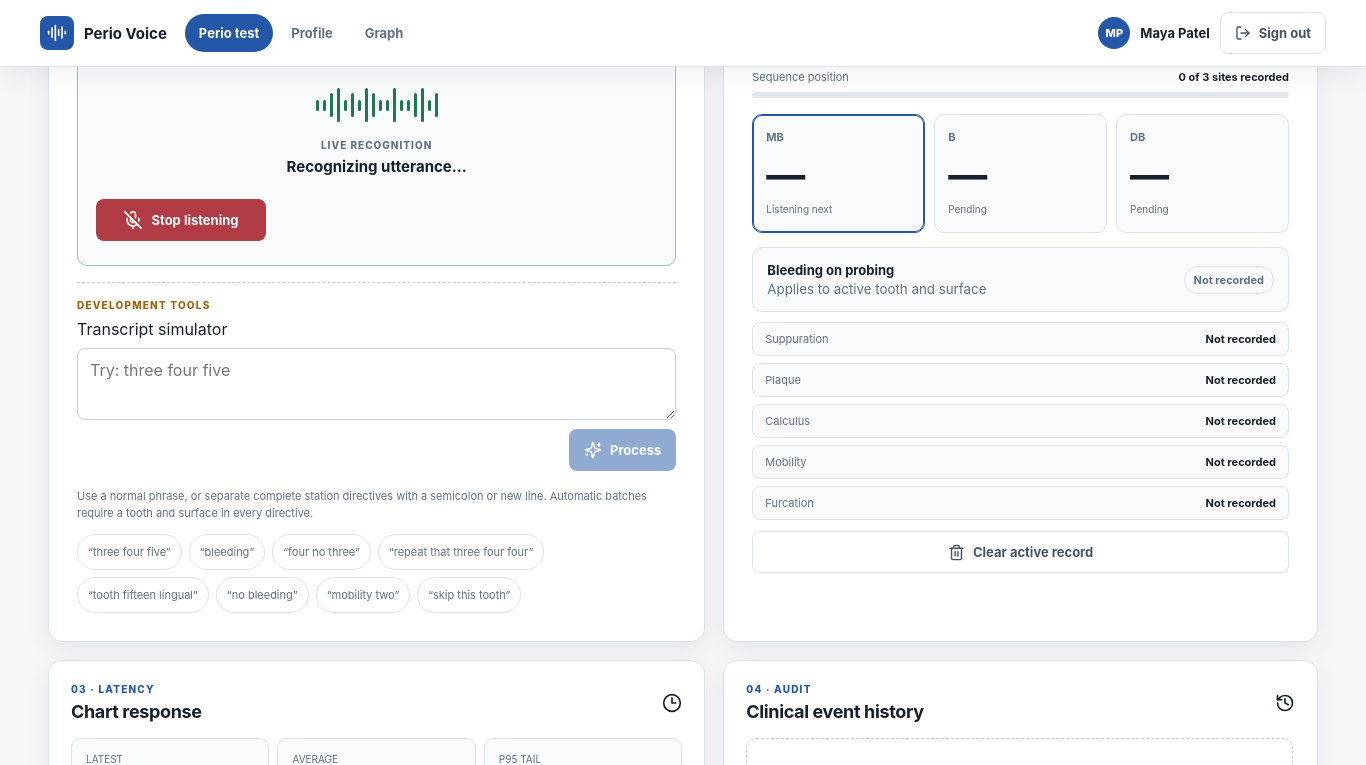
automatic chart UI › announces a rejected batch and preserves the active chart
(page scrolled)
In the text box labelled "Transcript simulator": (377, 384) [77, 348, 676, 420], type "tooth fourteen buccal three four five; two three four"
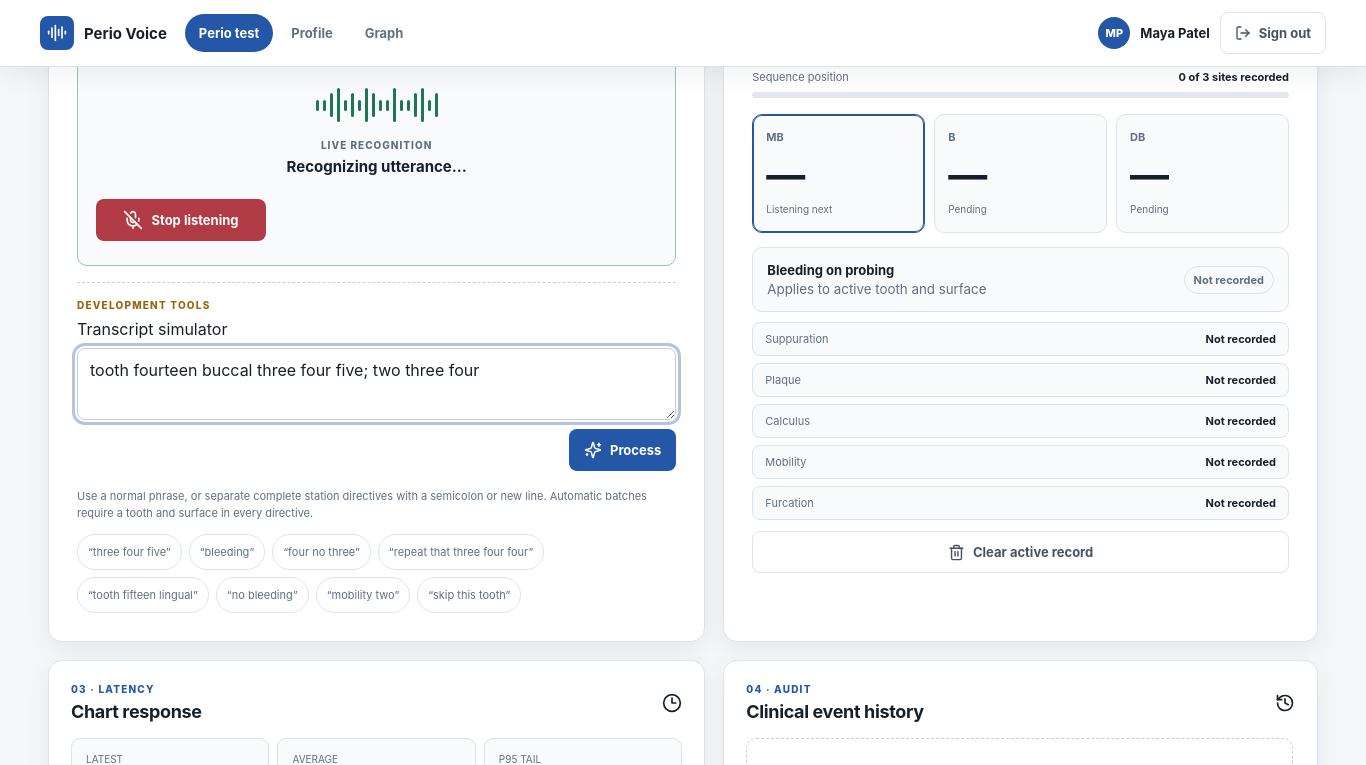
Submit the form labelled "Transcript simulator", box [77, 320, 676, 522]
(page scrolled)
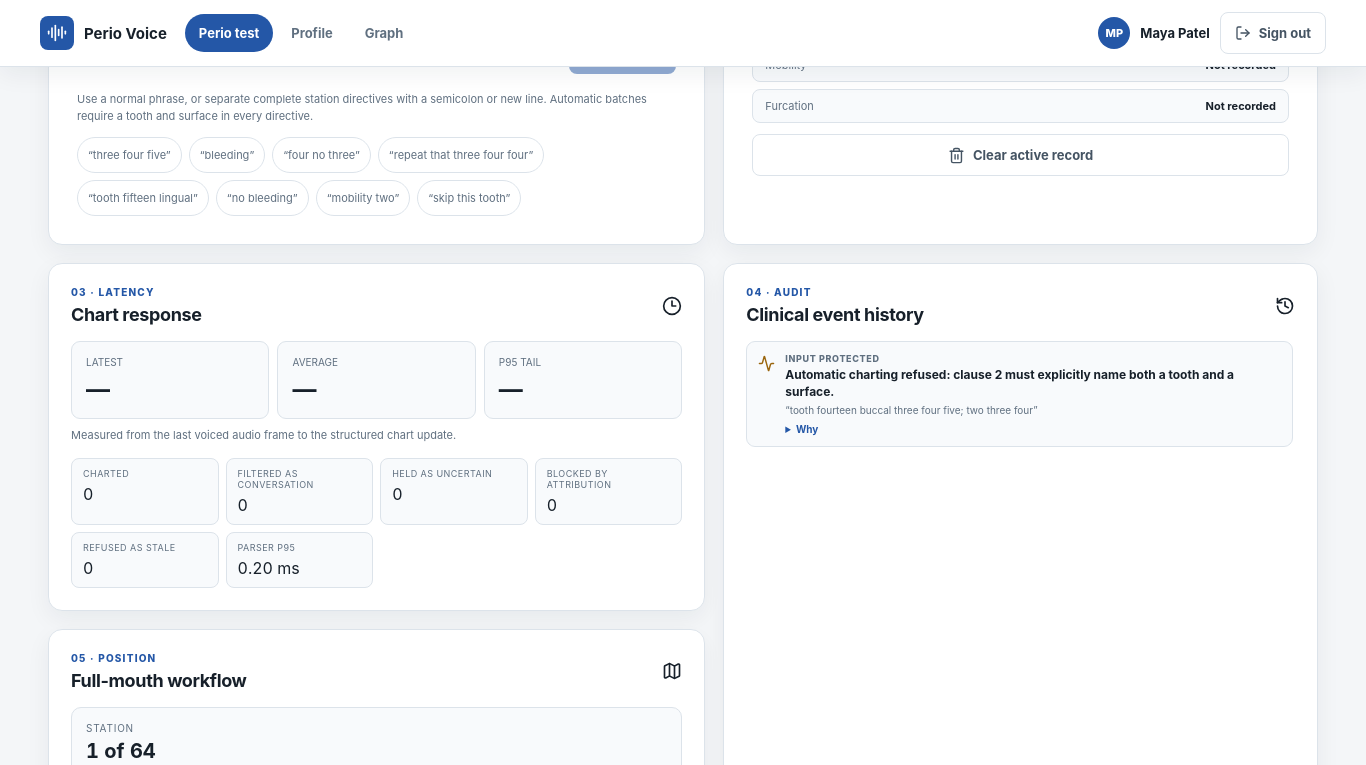
expect the text "Automatic charting refused" is shown: met, box [785, 368, 1234, 399]
